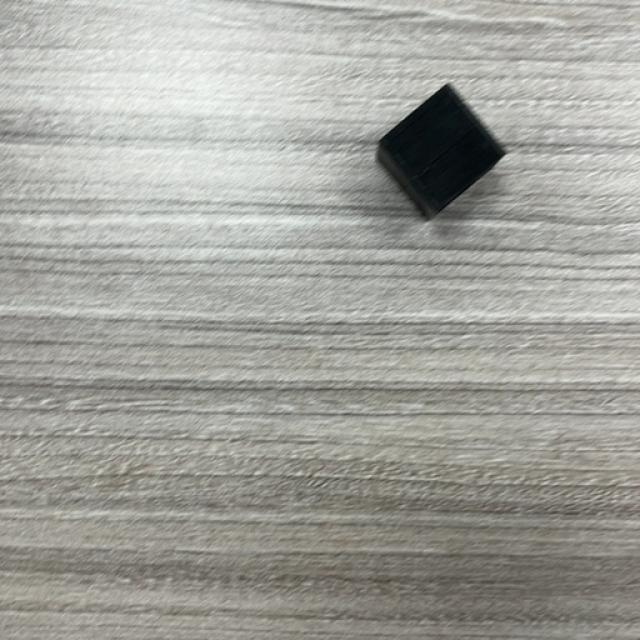Negro: (375, 85, 509, 221)
